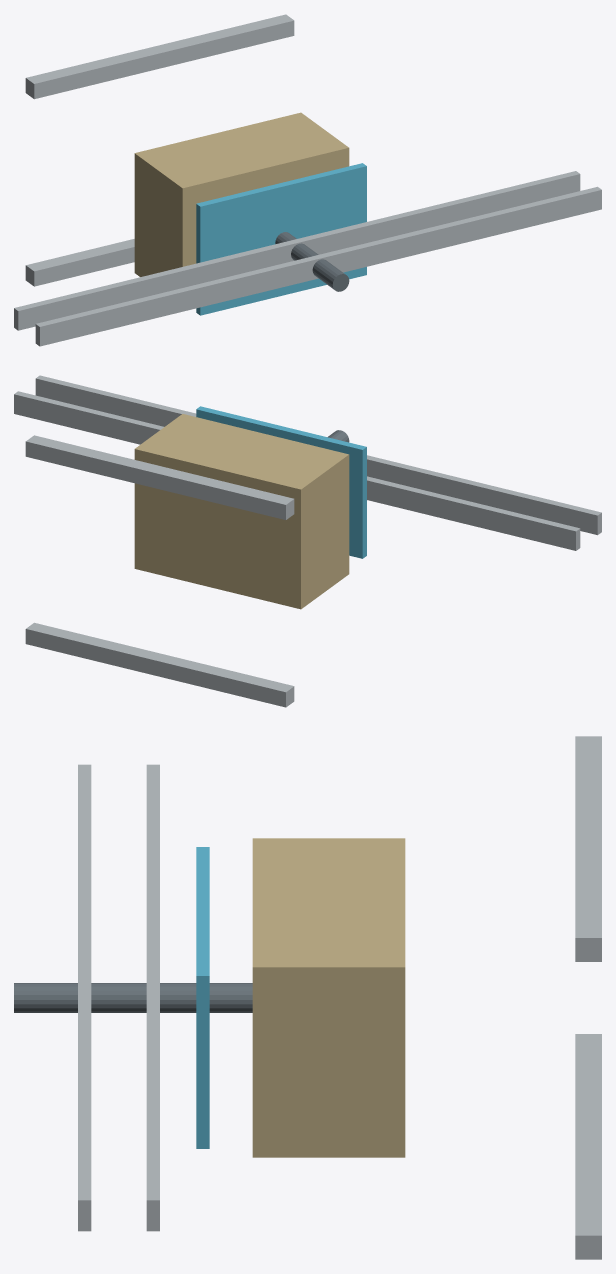
Rendered from ingenuity.glb.
3 renders of one model, top to bottom at view 1: azimuth 30°, elevation 25°; view 2: azimuth 150°, elevation 25°; view 3: azimuth 270°, elevation 25°, orthographic. The views are drawn at different scales.
Visible parts, largest first — view 1: fuselage, rotor_1, rotor_-1, solar_panel, landing_skid_1, landing_skid_-1, rotor_mast; view 2: fuselage, rotor_-1, rotor_1, landing_skid_-1, landing_skid_1, solar_panel; view 3: fuselage, rotor_-1, rotor_1, landing_skid_-1, landing_skid_1, rotor_mast, solar_panel.
Part boxes in pixels (bbox=[...]): fuselage: bbox=[134, 112, 349, 276]; rotor_1: bbox=[35, 186, 601, 346]; rotor_-1: bbox=[14, 171, 580, 330]; solar_panel: bbox=[196, 163, 366, 315]; landing_skid_1: bbox=[25, 14, 294, 99]; landing_skid_-1: bbox=[25, 239, 134, 286]; rotor_mast: bbox=[275, 232, 349, 291]; fuselage: bbox=[134, 414, 349, 609]; rotor_-1: bbox=[14, 391, 580, 550]; rotor_1: bbox=[35, 375, 601, 535]; landing_skid_-1: bbox=[25, 622, 294, 707]; landing_skid_1: bbox=[25, 435, 294, 519]; solar_panel: bbox=[196, 406, 366, 558]; fuselage: bbox=[252, 838, 405, 1157]; rotor_-1: bbox=[146, 764, 159, 1231]; rotor_1: bbox=[78, 764, 91, 1231]; landing_skid_-1: bbox=[575, 1034, 601, 1259]; landing_skid_1: bbox=[575, 736, 601, 961]; rotor_mast: bbox=[14, 983, 252, 1012]; solar_panel: bbox=[196, 847, 209, 1148].
Size of the model in its own units: 2.7 by 0.93 by 1.54.
